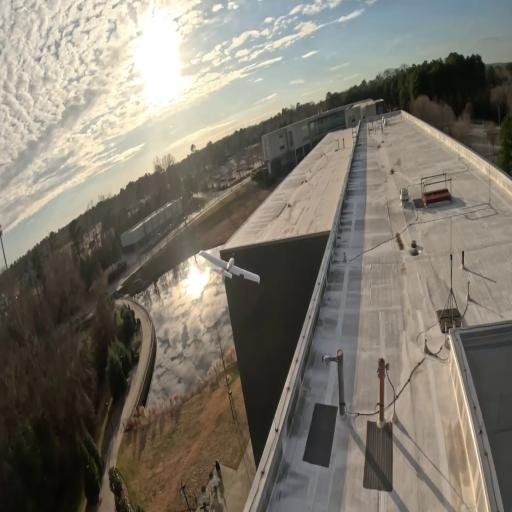uav: (198, 245, 262, 292)
